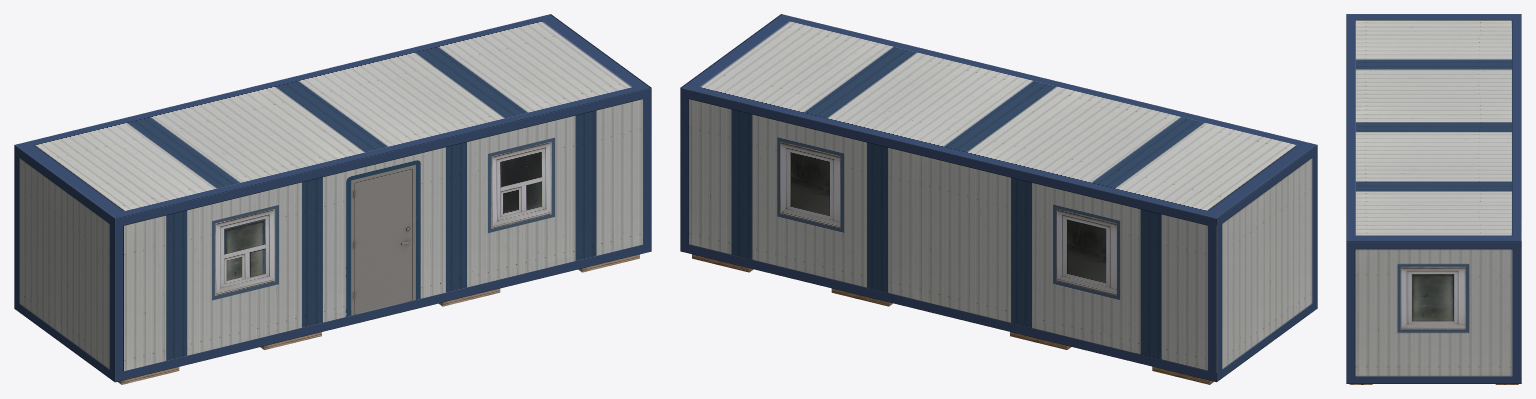
File: ContainerHouse11.FBX
3 renders of one model, left to right at view 1: azimuth 30°, elevation 25°; view 2: azimuth 150°, elevation 25°; view 3: azimuth 270°, elevation 25°, orthographic. The views are drawn at different scales.
Visible parts, largest first — view 1: ContainerHouse11, ContainerHouse11wood; view 2: ContainerHouse11, ContainerHouse11wood; view 3: ContainerHouse11.
Boxes of the visible parts, bbox=[...] form: ContainerHouse11: bbox=[14, 14, 651, 382]; ContainerHouse11wood: bbox=[118, 254, 639, 384]; ContainerHouse11: bbox=[680, 14, 1317, 382]; ContainerHouse11wood: bbox=[692, 254, 1213, 384]; ContainerHouse11: bbox=[1346, 14, 1521, 383].
Bounding box in the file's own units: 363 × 110 × 118.
